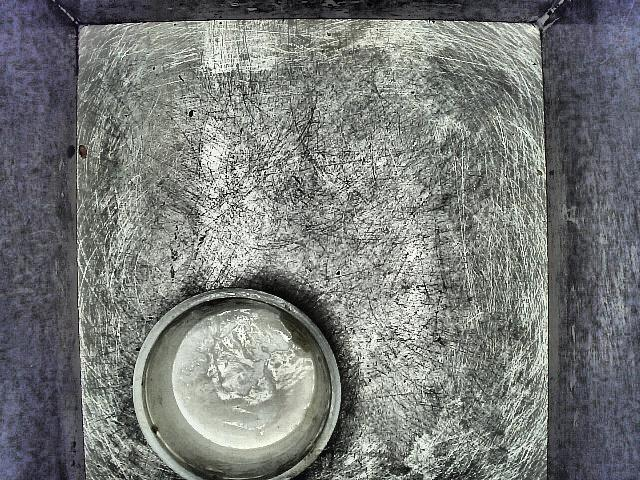Plastic: (126, 280, 345, 480)
